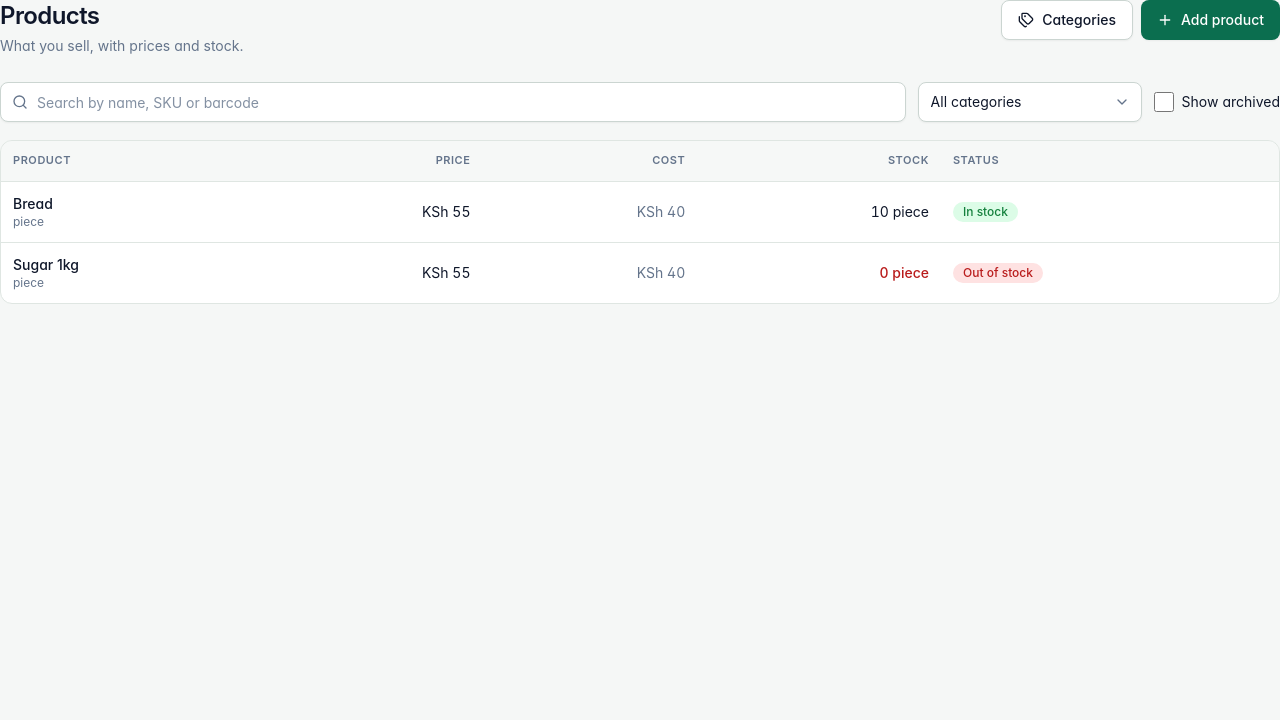
Test case: ProductsPage › lists products with stock badges and maps a duplicate-name conflict to the name field
Expected: the button "Sugar 1kg" is shown, 13,254 -> 256,274
Expected: the text "In stock" is shown, 953,202 -> 1018,222
Click the button "Add product" at [1210, 20], box 1141,0 -> 1279,40
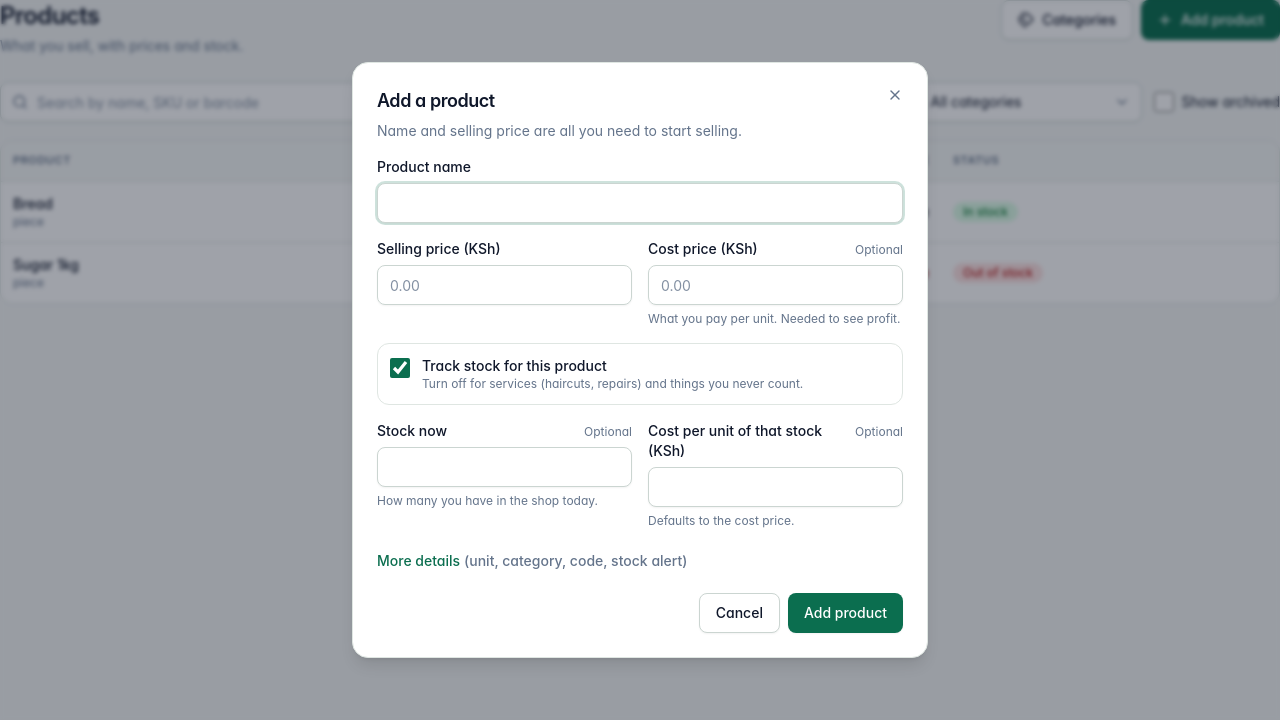
Type "Bread" into the field labelled "Product name" at [640, 203], box 377,183 -> 903,223
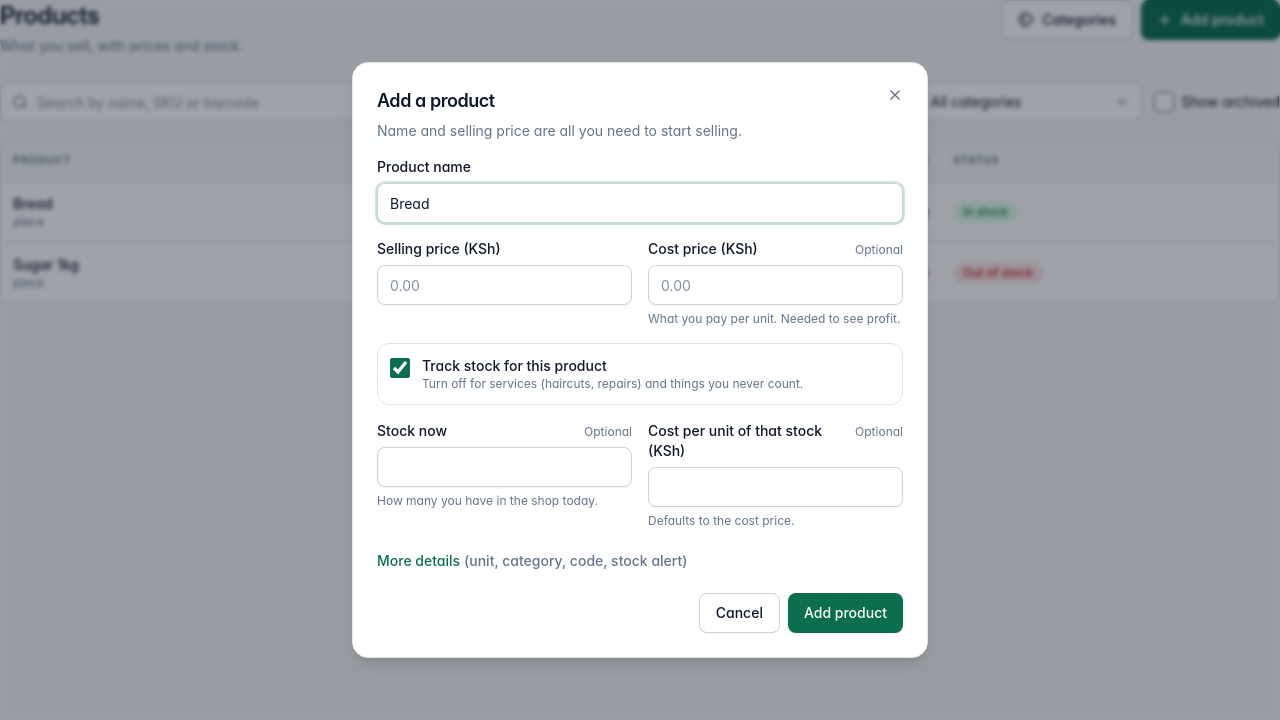
Type "55" into the field labelled "Selling price (KSh)" at [504, 285], box 377,265 -> 632,305
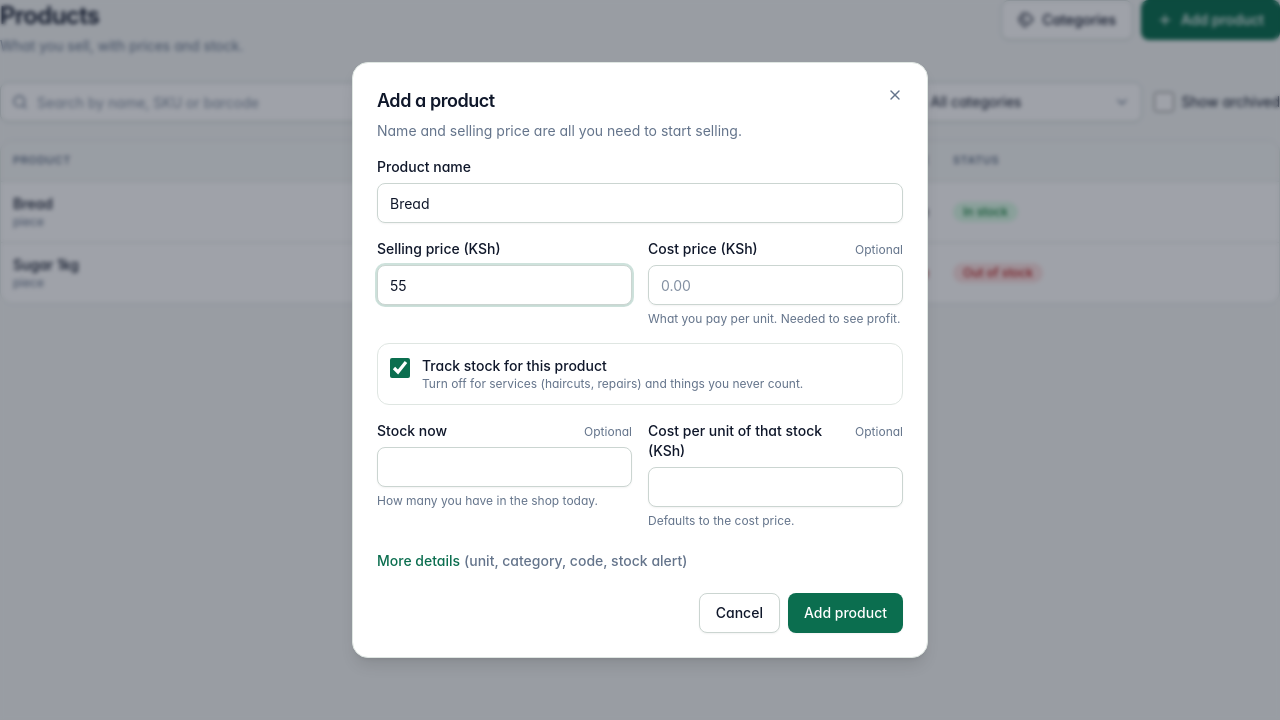
Click the button "Add product" at [846, 613], box 788,593 -> 903,633
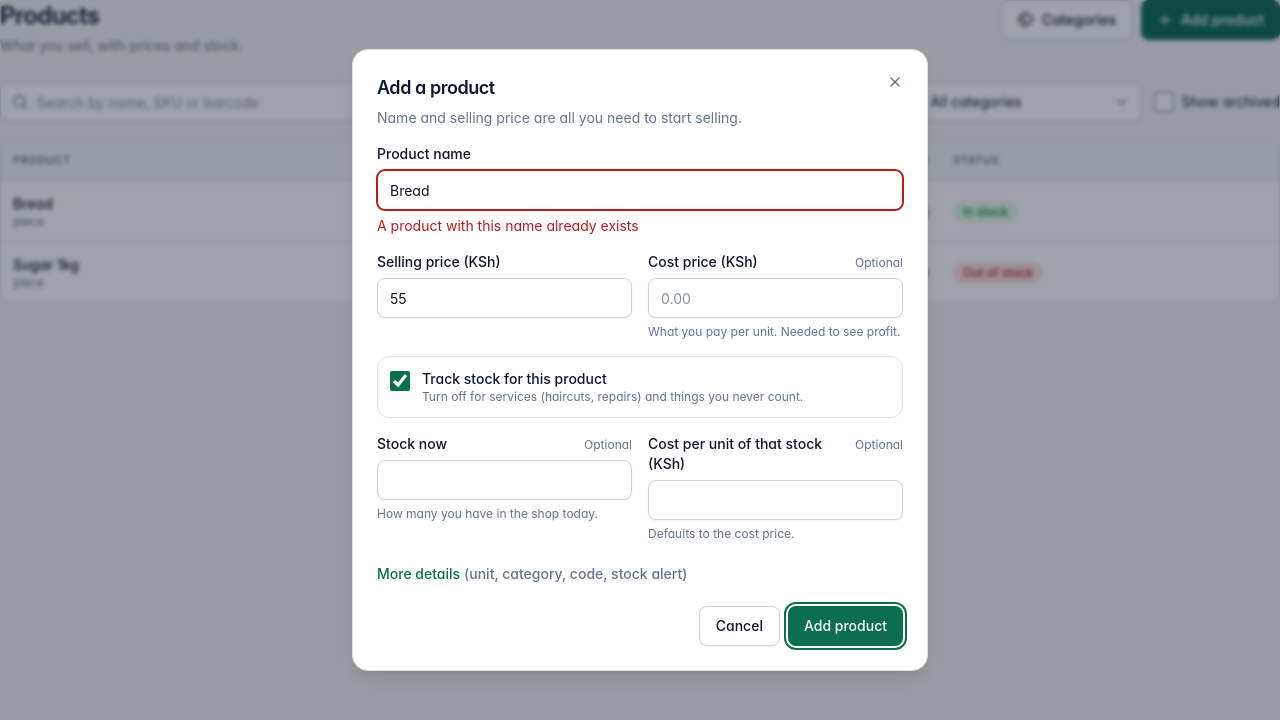
Expected: the message shows "already exists", 377,217 -> 639,234
